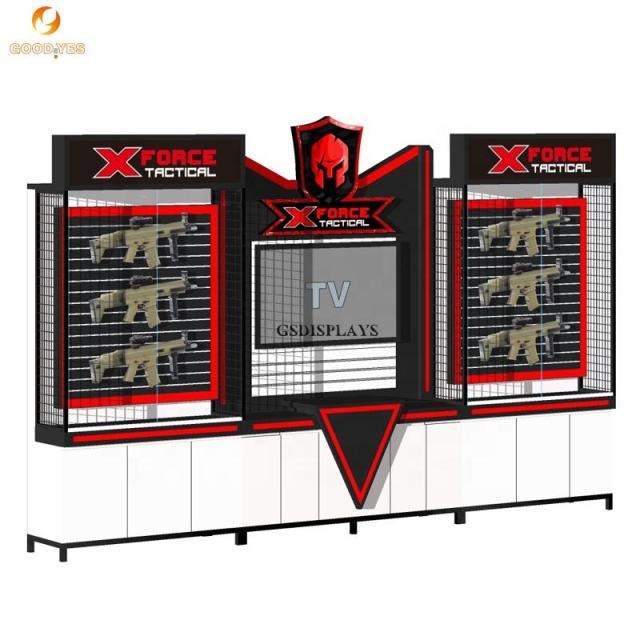Rifle: (89, 332, 198, 387), (90, 275, 198, 329), (89, 214, 187, 270), (478, 258, 566, 312), (479, 317, 564, 365), (478, 208, 560, 257)
